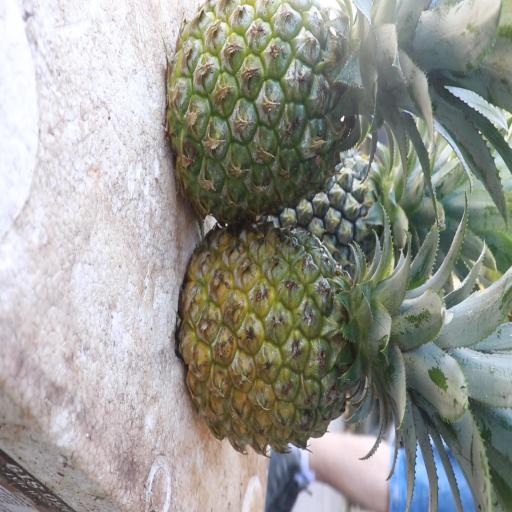------------------------------: (173, 0, 381, 219)
Pineapple - v8 v1: (189, 234, 410, 462)
